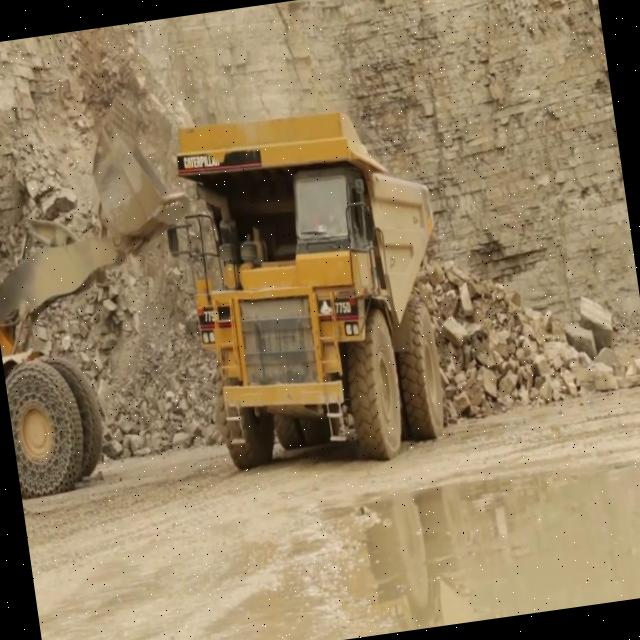Dump Truck: (170, 88, 470, 484)
Loader: (0, 86, 223, 499)
